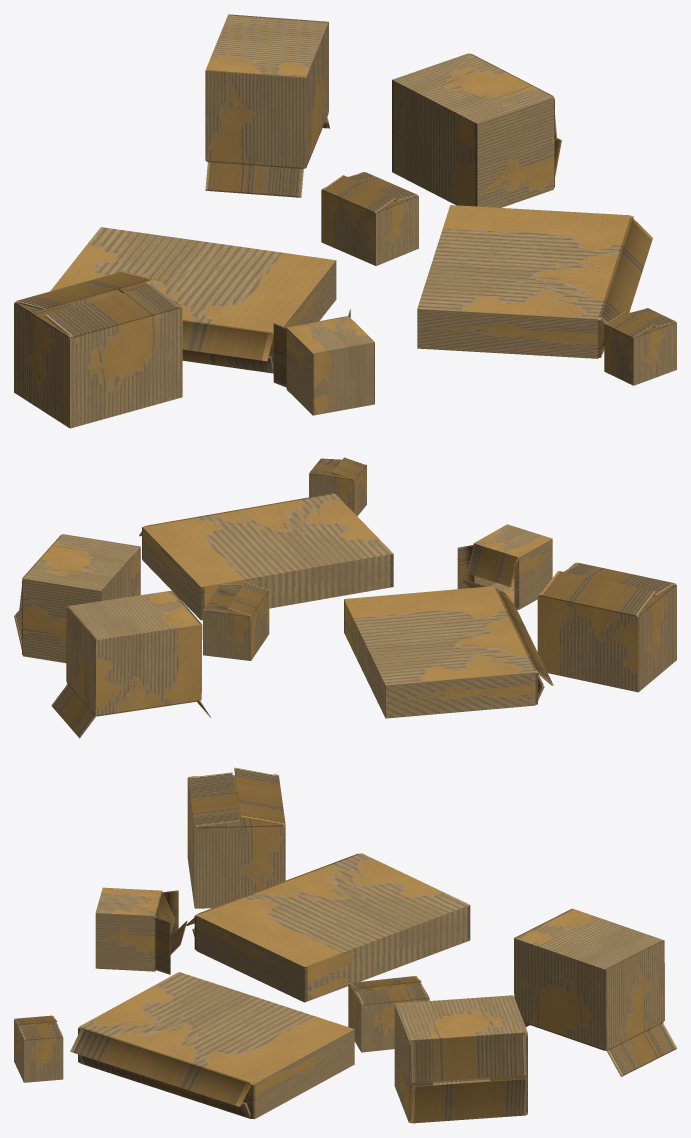
The model's file is CardBox-ver03.fbx.
3 renders of one model, top to bottom at view 1: azimuth 30°, elevation 25°; view 2: azimuth 150°, elevation 25°; view 3: azimuth 270°, elevation 25°, orthographic. The views are drawn at different scales.
Visible parts, largest first — view 1: CardBox_ver03; view 2: CardBox_ver03; view 3: CardBox_ver03.
Part boxes in pixels (bbox=[...]): CardBox_ver03: bbox=[14, 14, 676, 428]; CardBox_ver03: bbox=[14, 457, 676, 738]; CardBox_ver03: bbox=[14, 767, 676, 1123].
Bounding box in the file's own units: 247 × 43.73 × 255.
Materials: 1 (1 with a texture image).
